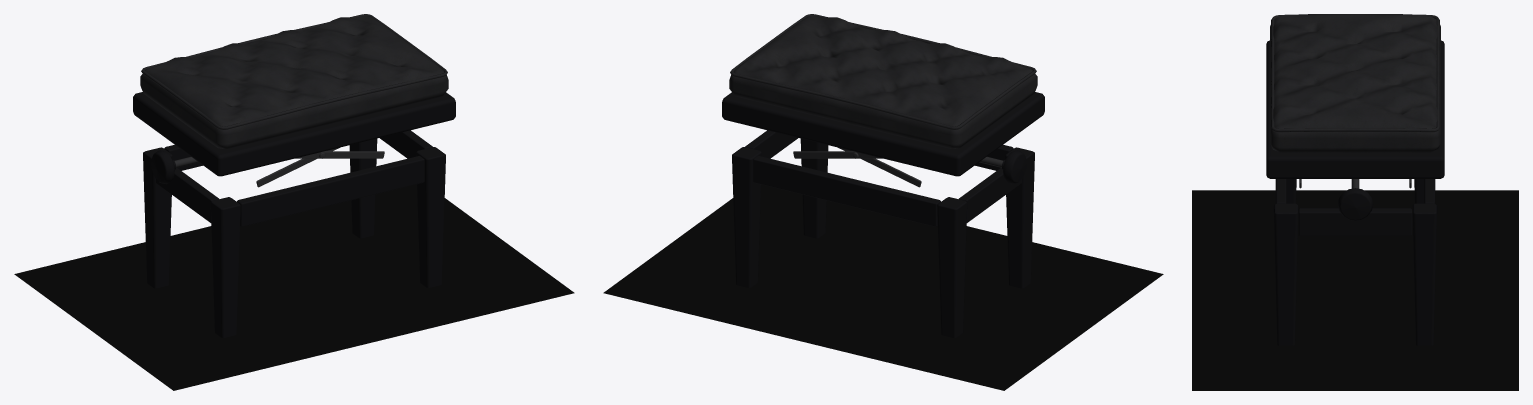
Rendered from piano_bench.glb.
3 renders of one model, left to right at view 1: azimuth 30°, elevation 25°; view 2: azimuth 150°, elevation 25°; view 3: azimuth 270°, elevation 25°, orthographic. The views are drawn at different scales.
Parts seen in each view (by area): view 1: piano_bench_LOD0, piano_bench_Shadow; view 2: piano_bench_LOD0, piano_bench_Shadow; view 3: piano_bench_Shadow, piano_bench_LOD0.
Part boxes in pixels (<box>): piano_bench_LOD0: <box>133,14,455,337</box>; piano_bench_Shadow: <box>14,184,574,390</box>; piano_bench_LOD0: <box>722,14,1044,337</box>; piano_bench_Shadow: <box>603,184,1163,390</box>; piano_bench_Shadow: <box>1192,190,1518,390</box>; piano_bench_LOD0: <box>1266,14,1444,345</box>.
Size of what is drawn, in the model's own units: 0.958 by 0.5096 by 0.66.
4 materials, 2 textured.
